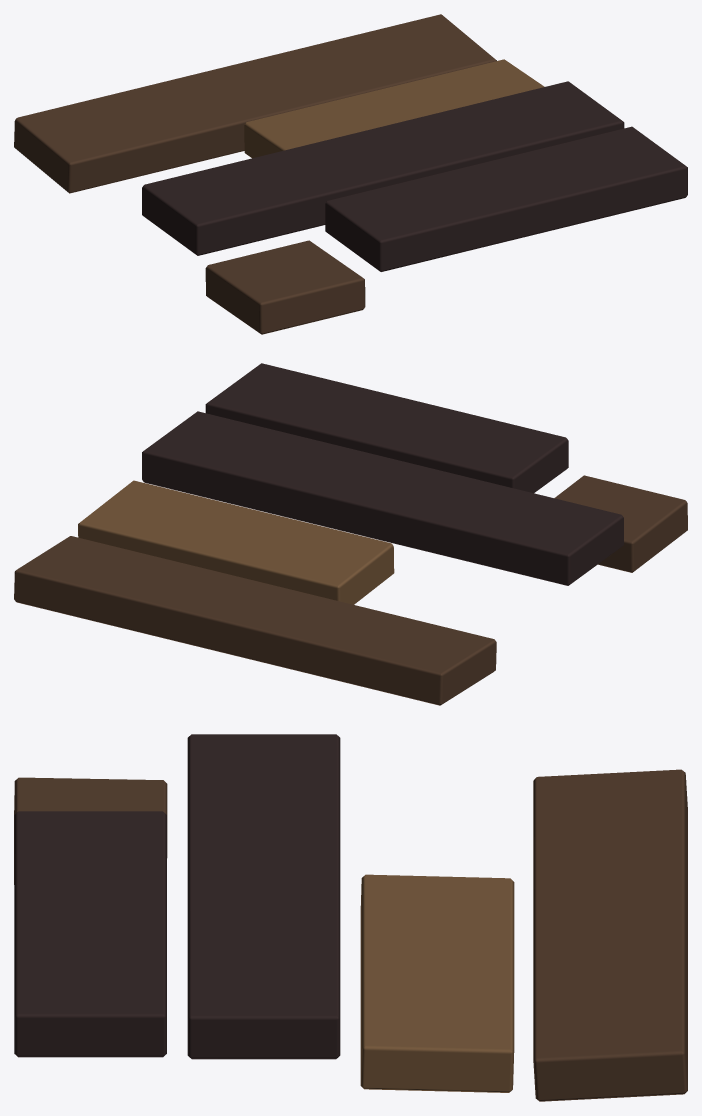
File: stone-halls-planks-broken.73953ede.glb
3 views of the same model, one above another, from view 1: azimuth 30°, elevation 25°; view 2: azimuth 150°, elevation 25°; view 3: azimuth 270°, elevation 25° (orthographic). The views are drawn at different scales.
Parts seen in each view (by area): view 1: body; view 2: body; view 3: body.
Boxes of the visible parts, x1=… form: body: x1=14, y1=14, x2=687, y2=334; body: x1=14, y1=363, x2=687, y2=705; body: x1=14, y1=734, x2=687, y2=1101.
Size of the model in its own units: 0.97 by 0.1461 by 0.972.
